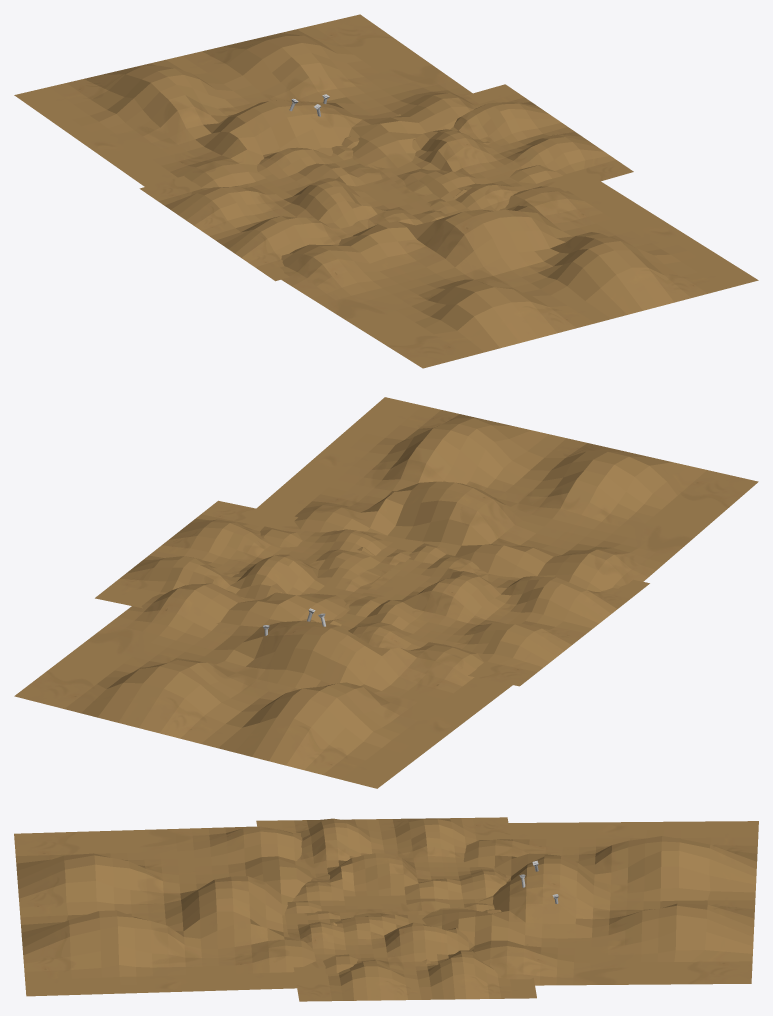
File: shamoplane_2.FBX
The picture shows the model from 3 angles, top to bottom: view 1: azimuth 30°, elevation 25°; view 2: azimuth 150°, elevation 25°; view 3: azimuth 270°, elevation 25°; orthographic projection. The views are drawn at different scales.
Parts seen in each view (by area): view 1: Object001; view 2: Object001; view 3: Object001.
Boxes of the visible parts, x1,y1,x2,y2 form: Object001: (14,14,758,368); Object001: (14,397,758,788); Object001: (14,817,758,1001).
Bounding box in the file's own units: 199456 × 19455 × 340468.
